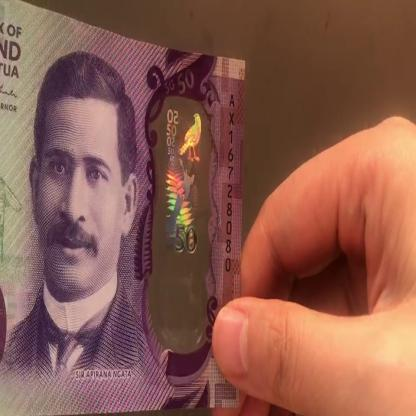50F: (161, 103, 205, 328)
